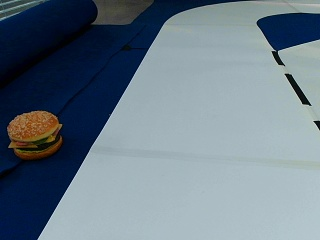burger: (6, 109, 62, 158)
